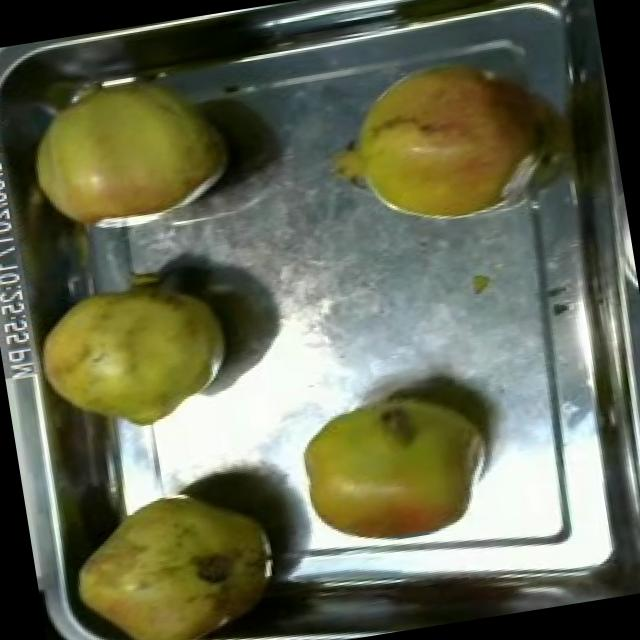fruit: (316, 36, 584, 250), (270, 368, 518, 569), (15, 60, 249, 255), (50, 464, 305, 640), (19, 258, 250, 449)
